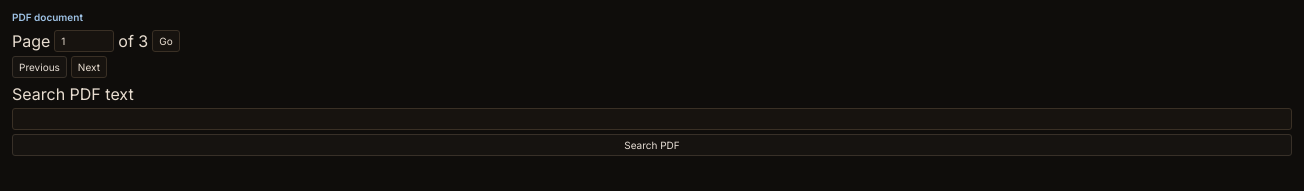
Test case: PDF document panel › reports scanned pages and a partial search
Expected: the button with aria-label "Next PDF page" is enabled, [71,56,107,78]
Type "research" into the search field labelled "Search PDF text" at coordinates (652, 119), box [12,108,1292,130]
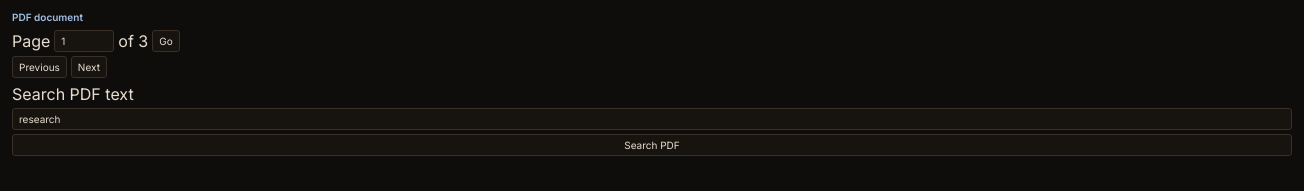
Click the button "Search PDF" at coordinates (652, 145), box [12,134,1292,156]
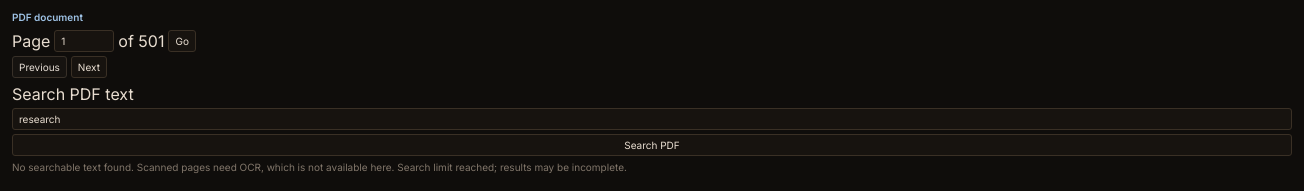
Now the text "No searchable text found" is shown, box [12,162,394,174]
Now the text "results may be incomplete" is shown, box [394,162,627,174]
